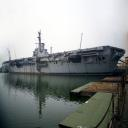Portanaves: (2, 27, 127, 76)
